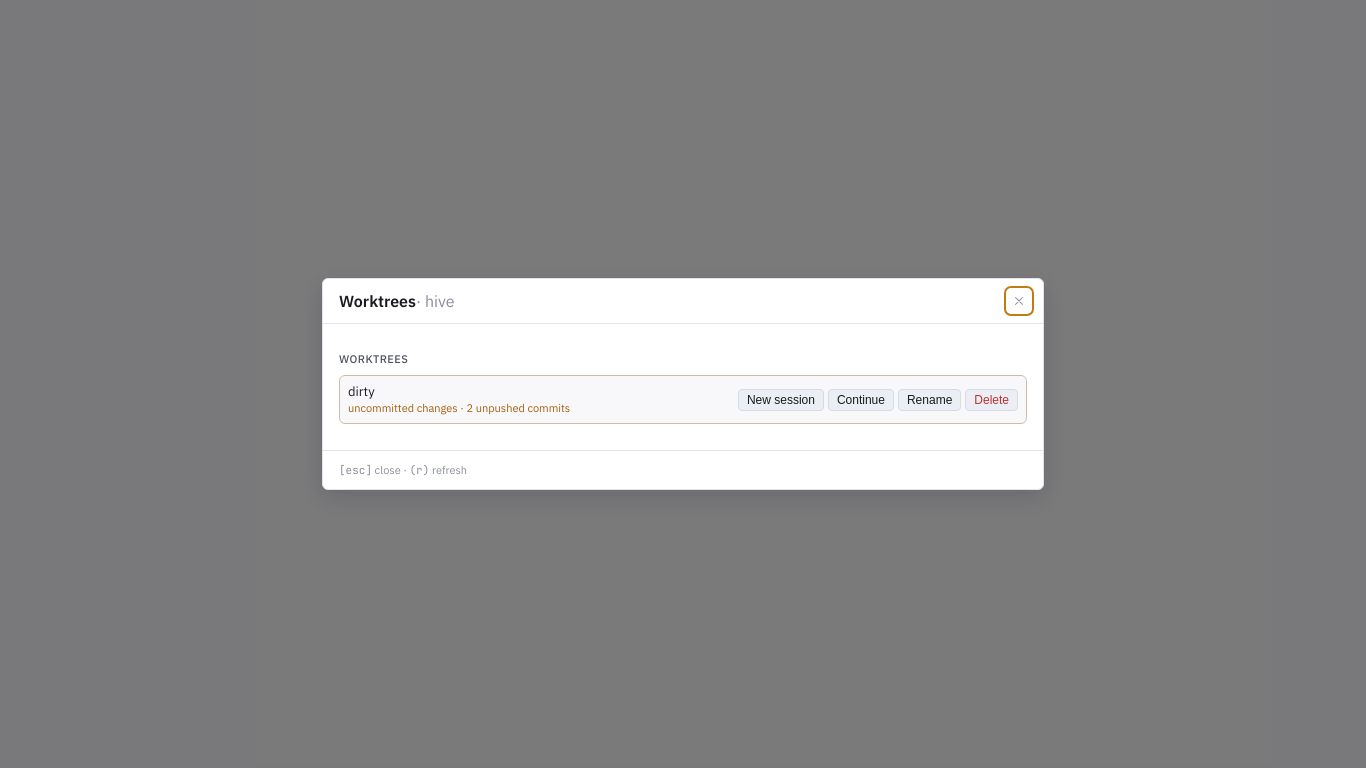
it: deleting › names what would be lost, in the dialog itself
The image size is (1366, 768).
Click the button "Delete": [992, 400] box [965, 389, 1018, 411]
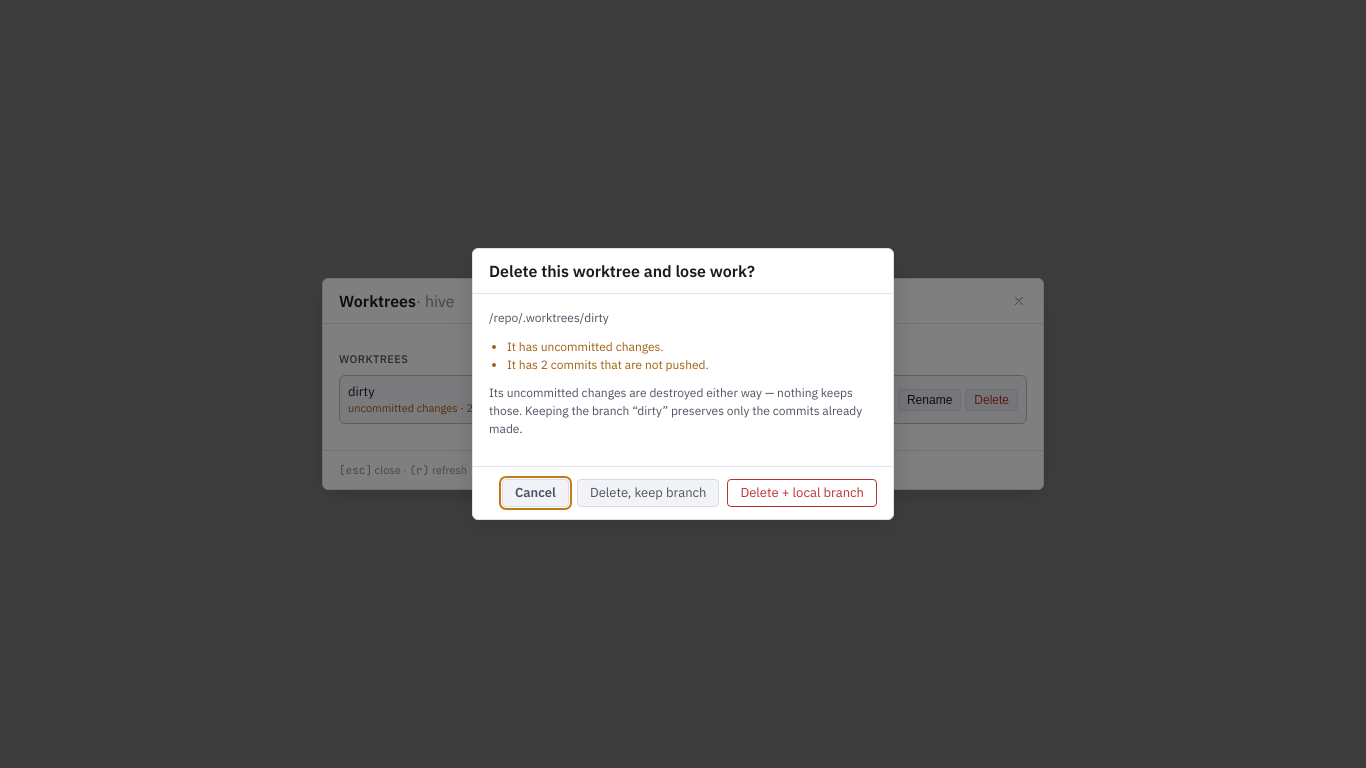
Now the text "/repo/.worktrees/dirty" is shown, box [489, 310, 609, 325]
Now the text "2 commits that are not pushed" is shown, box [507, 357, 709, 372]
Now the text "lose work" is shown, box [489, 261, 755, 281]
